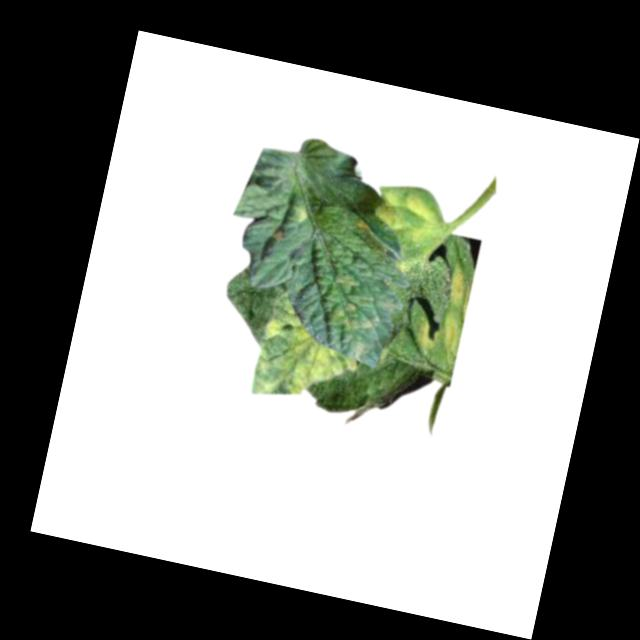Leaf_Mold: (249, 299, 368, 414), (369, 180, 444, 248), (321, 296, 388, 362), (441, 260, 473, 309), (438, 307, 467, 354), (330, 269, 365, 299), (417, 319, 442, 351), (349, 216, 372, 240), (291, 202, 309, 227)
